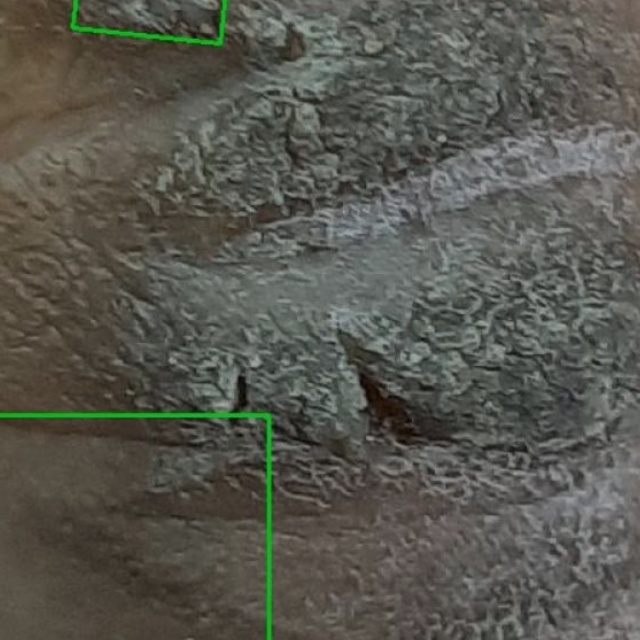Contact Dermatitis: (0, 416, 269, 639)
